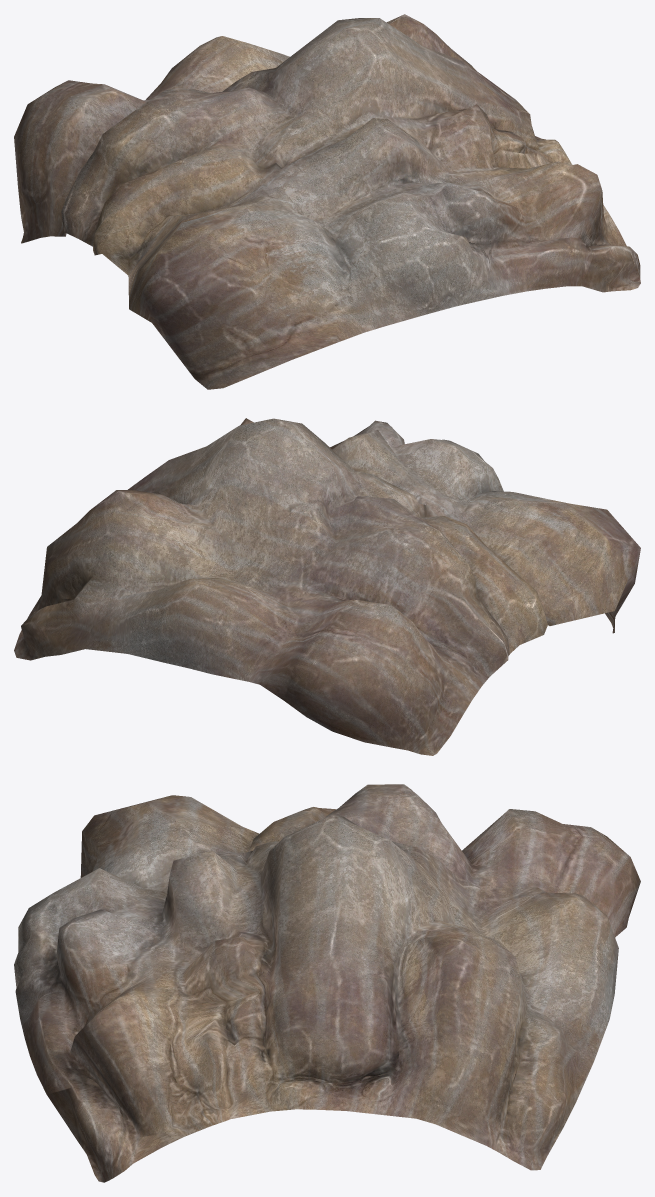
Rendered from cave_ravine_wall_sand_01_domed_lopoly.dae.
3 renders of one model, top to bottom at view 1: azimuth 30°, elevation 25°; view 2: azimuth 150°, elevation 25°; view 3: azimuth 270°, elevation 25°, orthographic. The views are drawn at different scales.
Visible parts, largest first — view 1: Mesh; view 2: Mesh; view 3: Mesh.
Part boxes in pixels (x1,y1,x2,y2): Mesh: [14, 14, 640, 389]; Mesh: [14, 418, 640, 755]; Mesh: [14, 784, 640, 1182].
Size of the model in its own units: 3.99 by 1.83 by 3.98.
